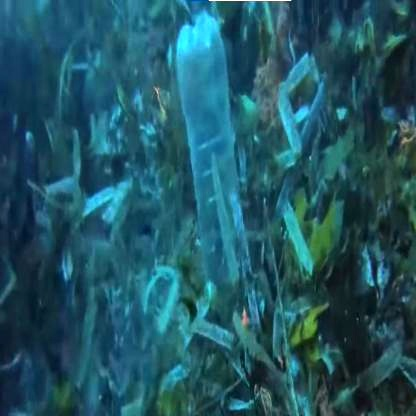pbottle: (175, 16, 254, 324)
